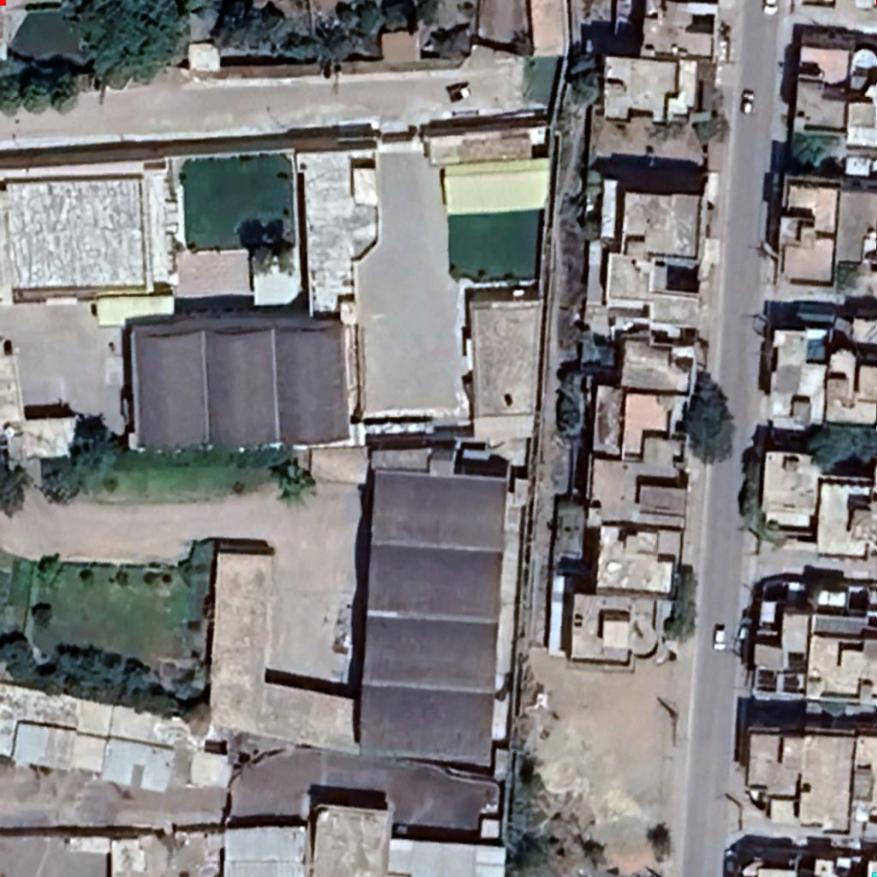Solarpanel: (781, 649, 811, 698), (753, 667, 779, 695)
